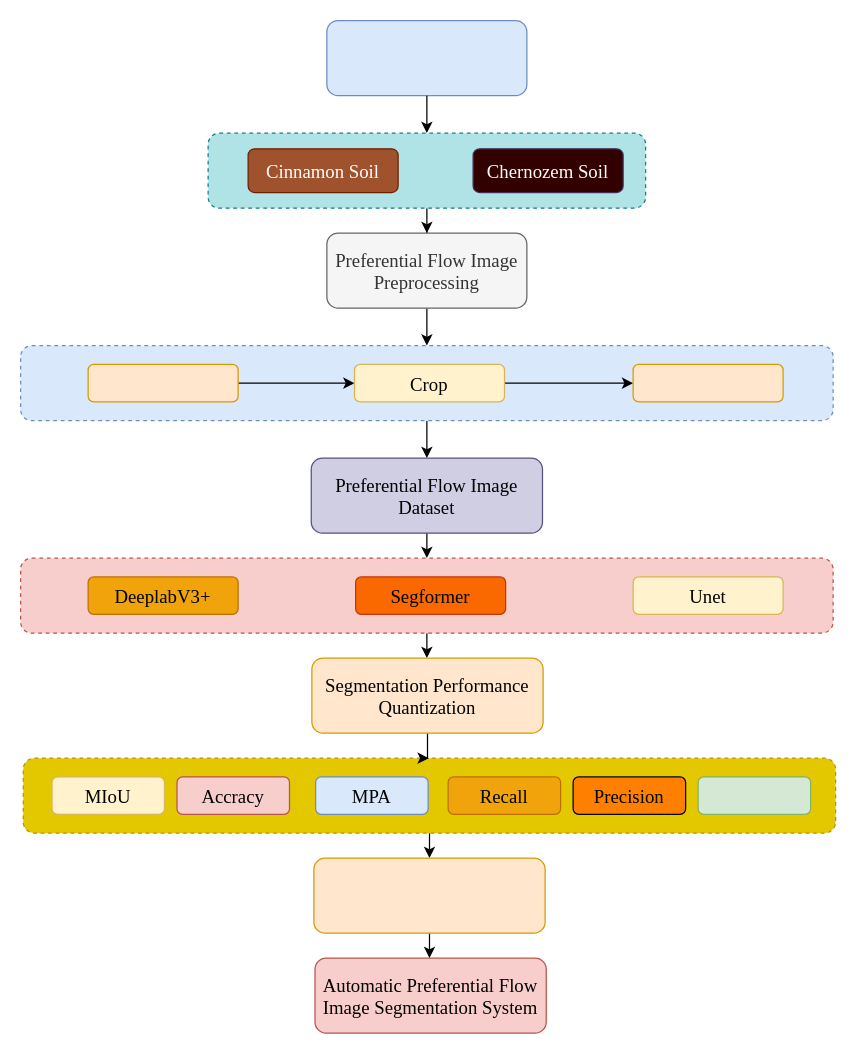
Image size: 856x1054. Some labels were removed from this diagram. Here are the shapes that lost their labels. From the top down, the centre of each, then its label:
At point (426, 57): "Preferential Flow Image Collection".
At point (162, 382): "Rotation".
At point (707, 382): "Enhancement".
At point (754, 795): "F1-Score".
At point (429, 895): "Website Design".
